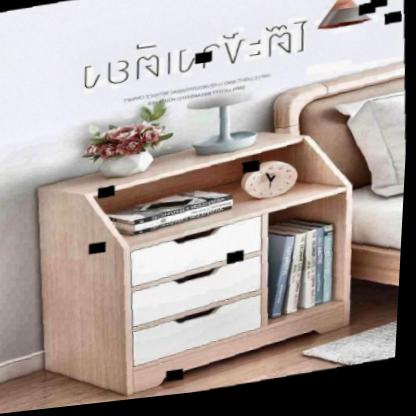Nightstand: (31, 132, 358, 378)
